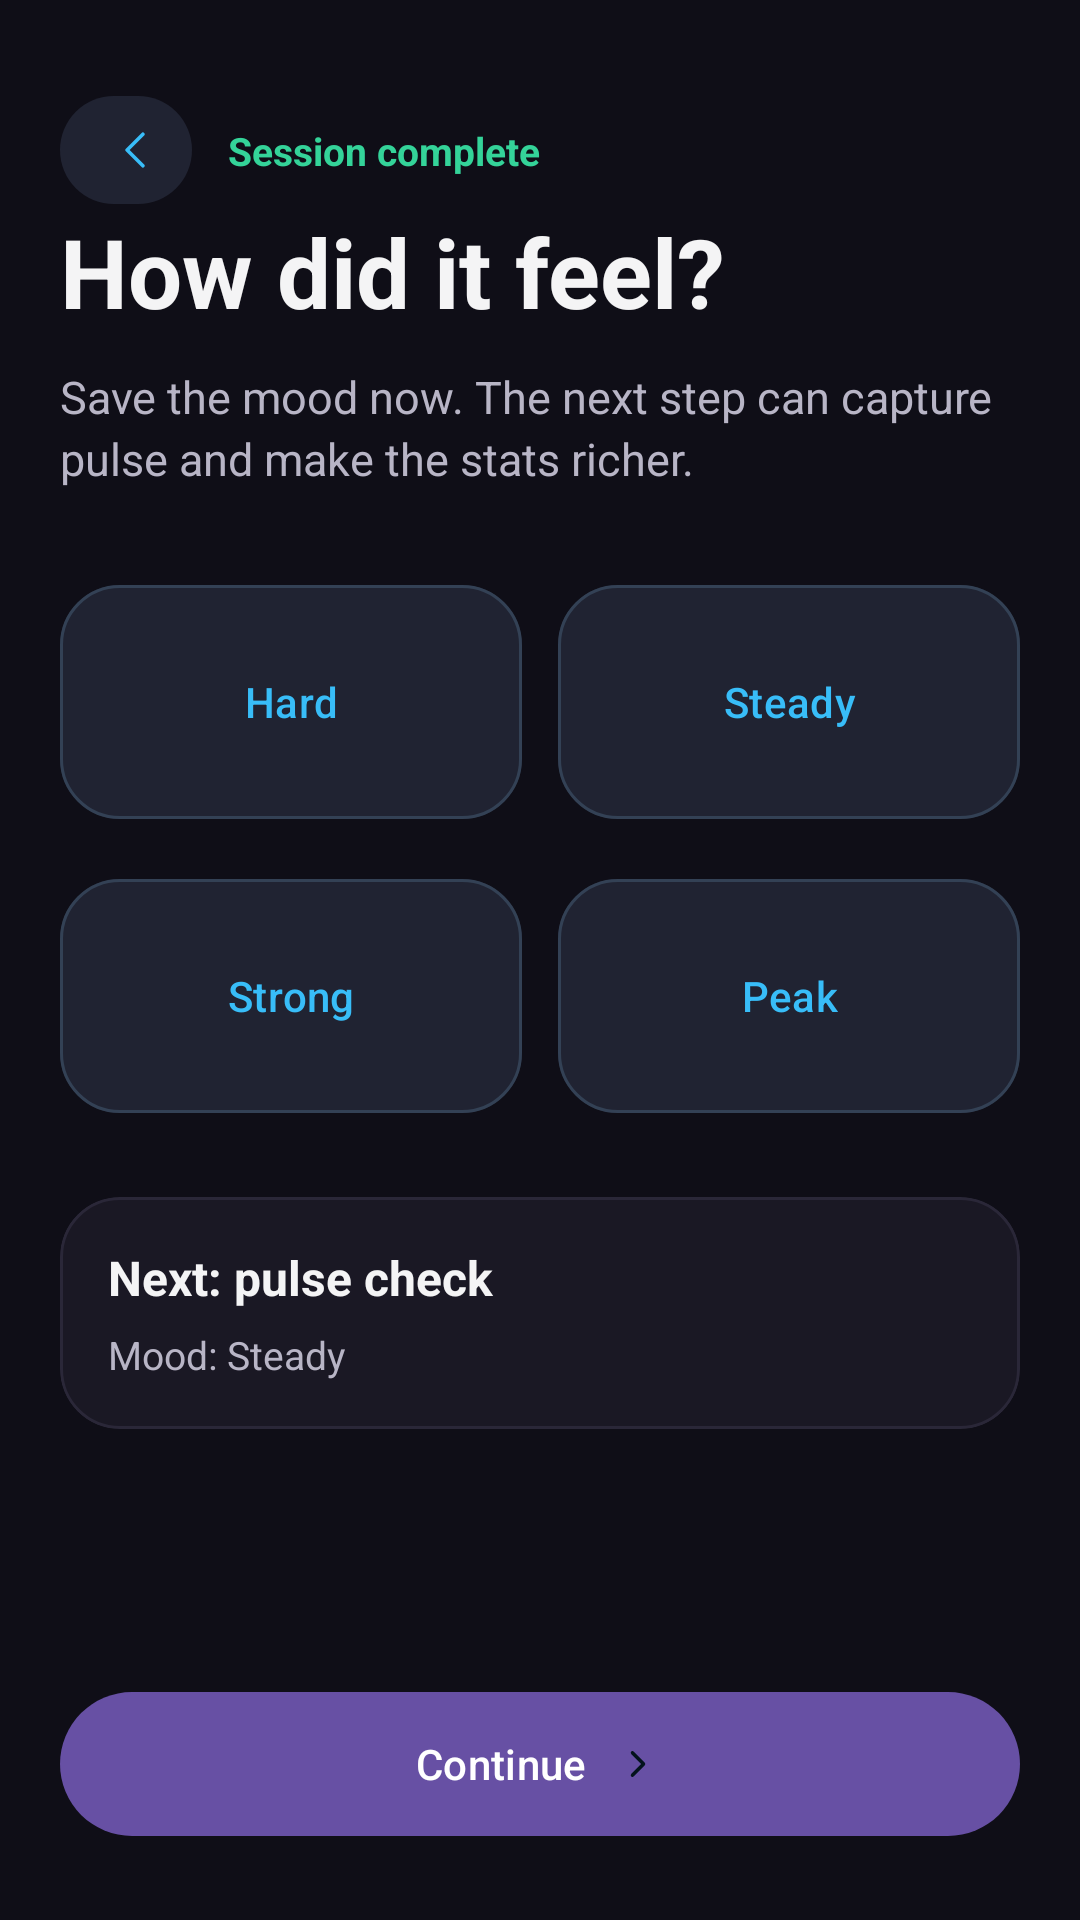

Point at icon controls on the screen. Image size 1080px×1920px, points as point (x, y).
arrow: point (126, 150)
